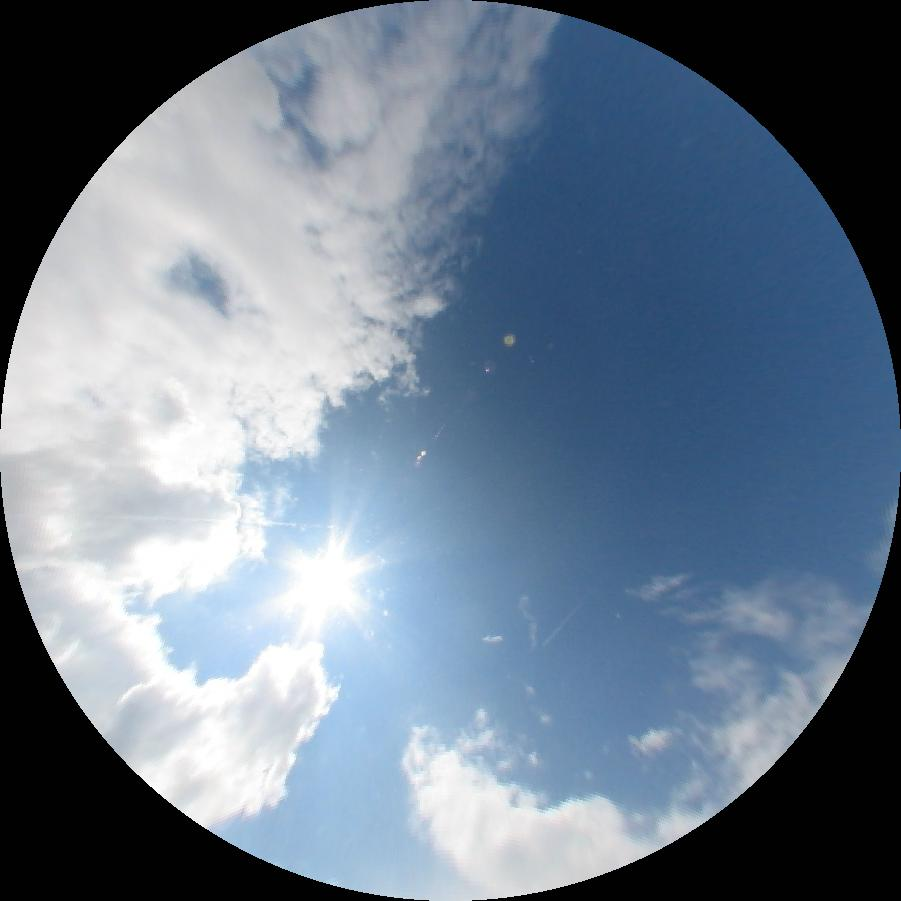contrail young: (543, 603, 581, 647)
parasite: (69, 514, 335, 529)
sun: (300, 558, 358, 602)
